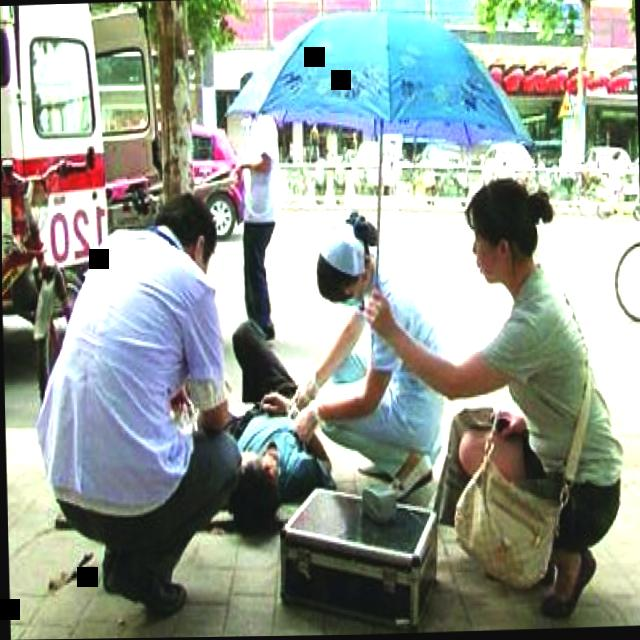Fall-Detected: (192, 316, 345, 527)
